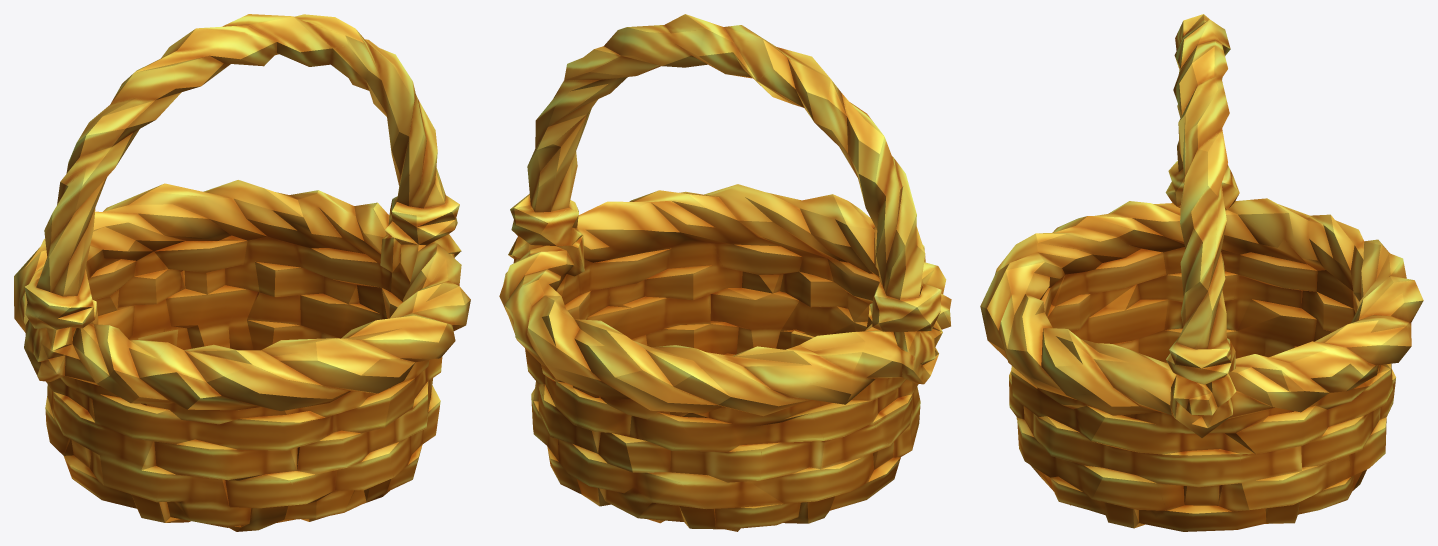
File: FlowerBasket.glb
3 views of the same model, side by side, from view 1: azimuth 30°, elevation 25°; view 2: azimuth 150°, elevation 25°; view 3: azimuth 270°, elevation 25° (orthographic). The views are drawn at different scales.
Visible parts, largest first — view 1: geometry_0; view 2: geometry_0; view 3: geometry_0.
Part boxes in pixels (box(x1,y1,x2,y2)): geometry_0: box(14, 14, 470, 531); geometry_0: box(499, 14, 951, 531); geometry_0: box(980, 14, 1423, 531).
Bounding box in the file's own units: 0.2181 × 0.22 × 0.2038.
Materials: 1 (1 with a texture image).
